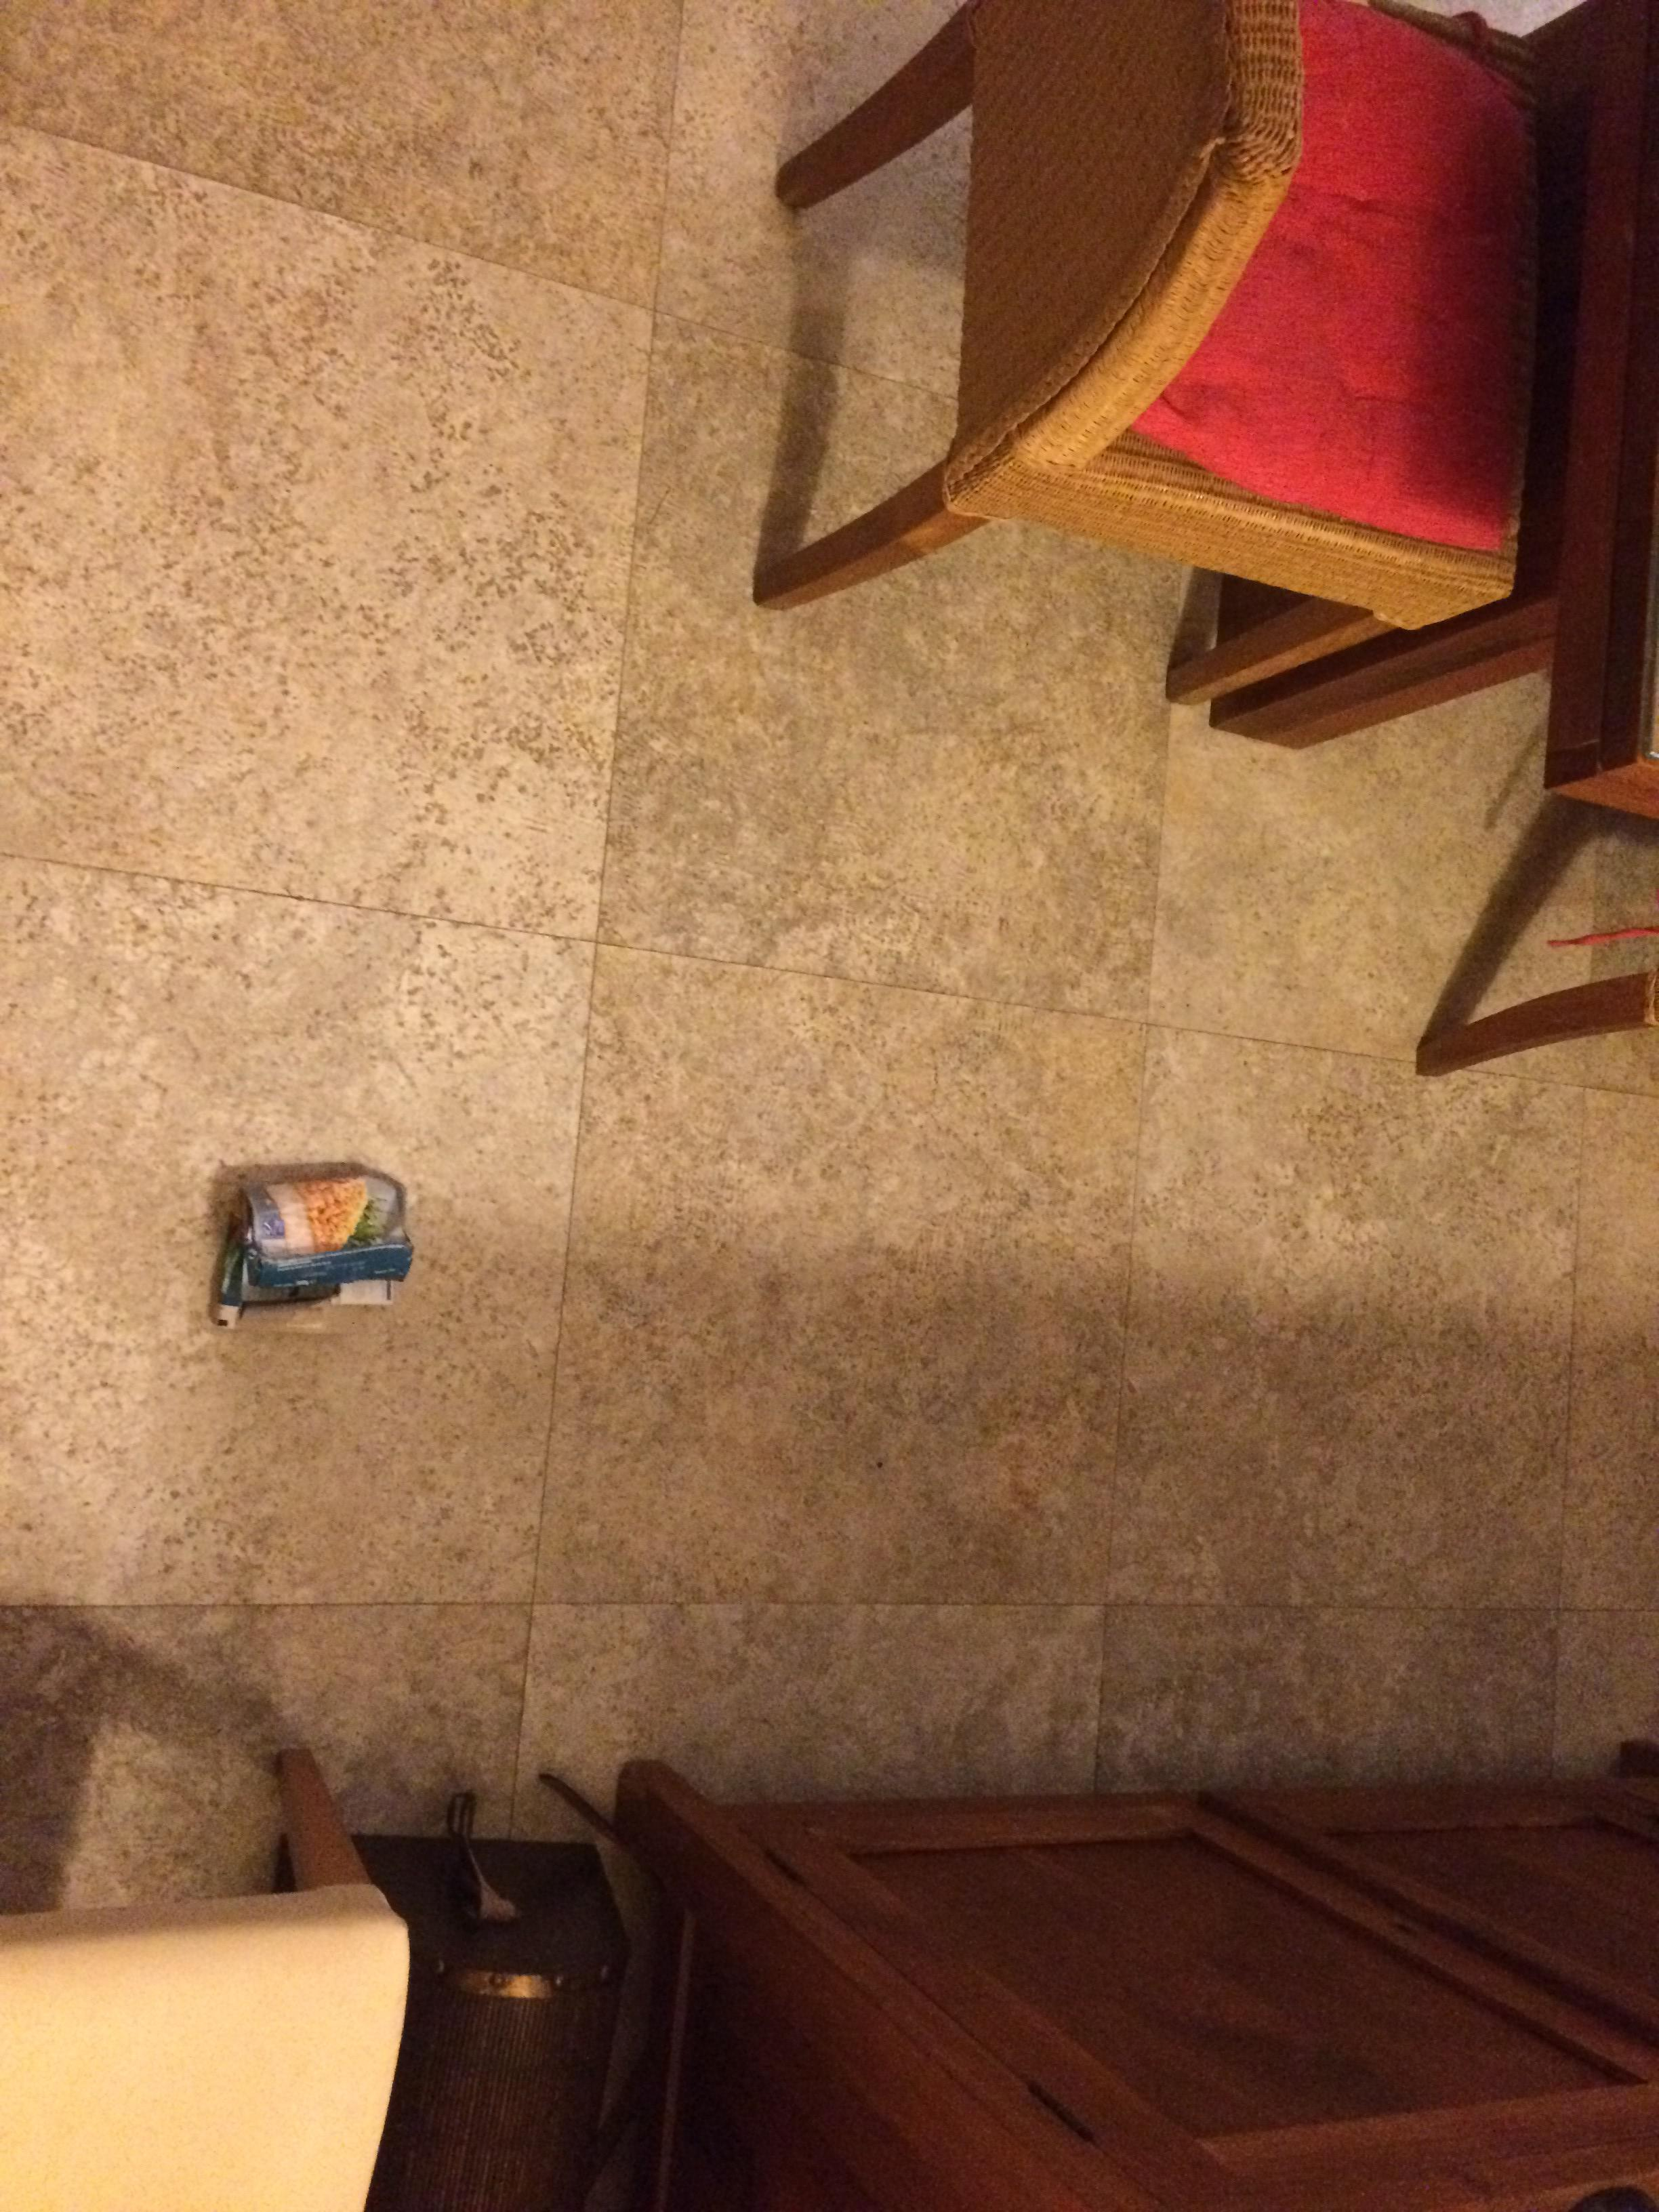Trash: (195, 1153, 411, 1345)
